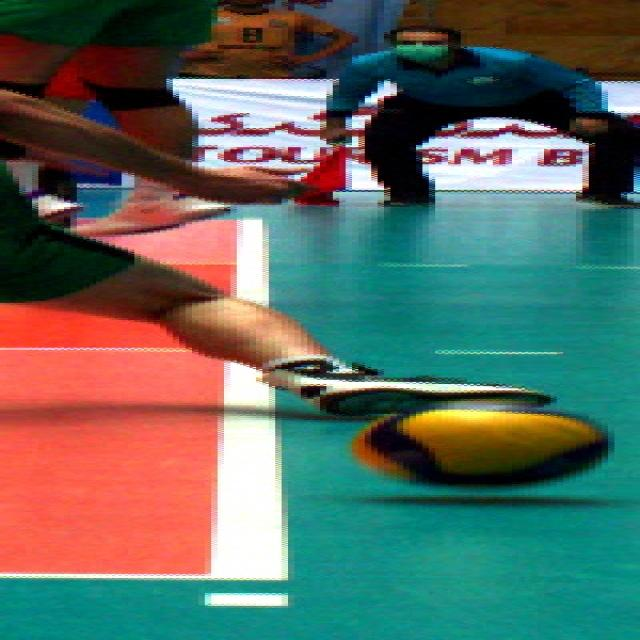Volleyball: (355, 401, 605, 486)
